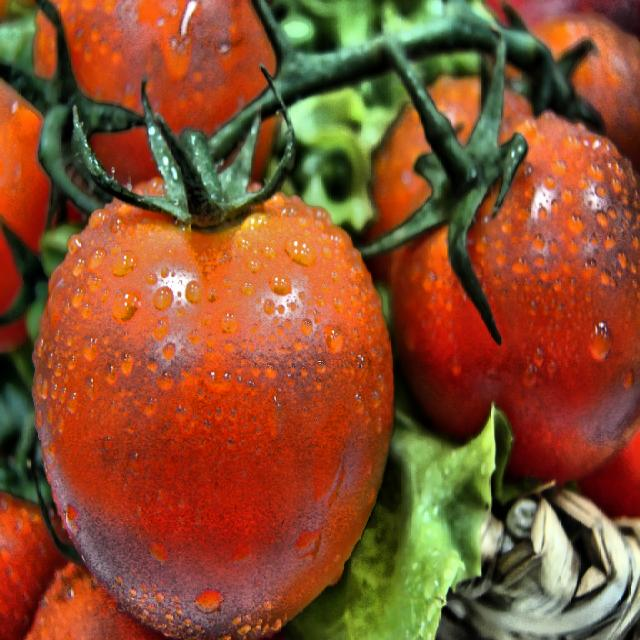tomato: (23, 58, 407, 640)
